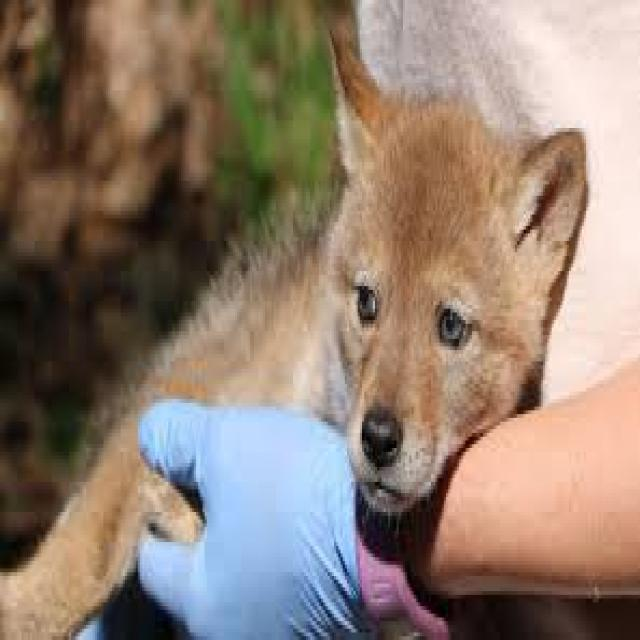Coyote: (0, 34, 606, 635)
